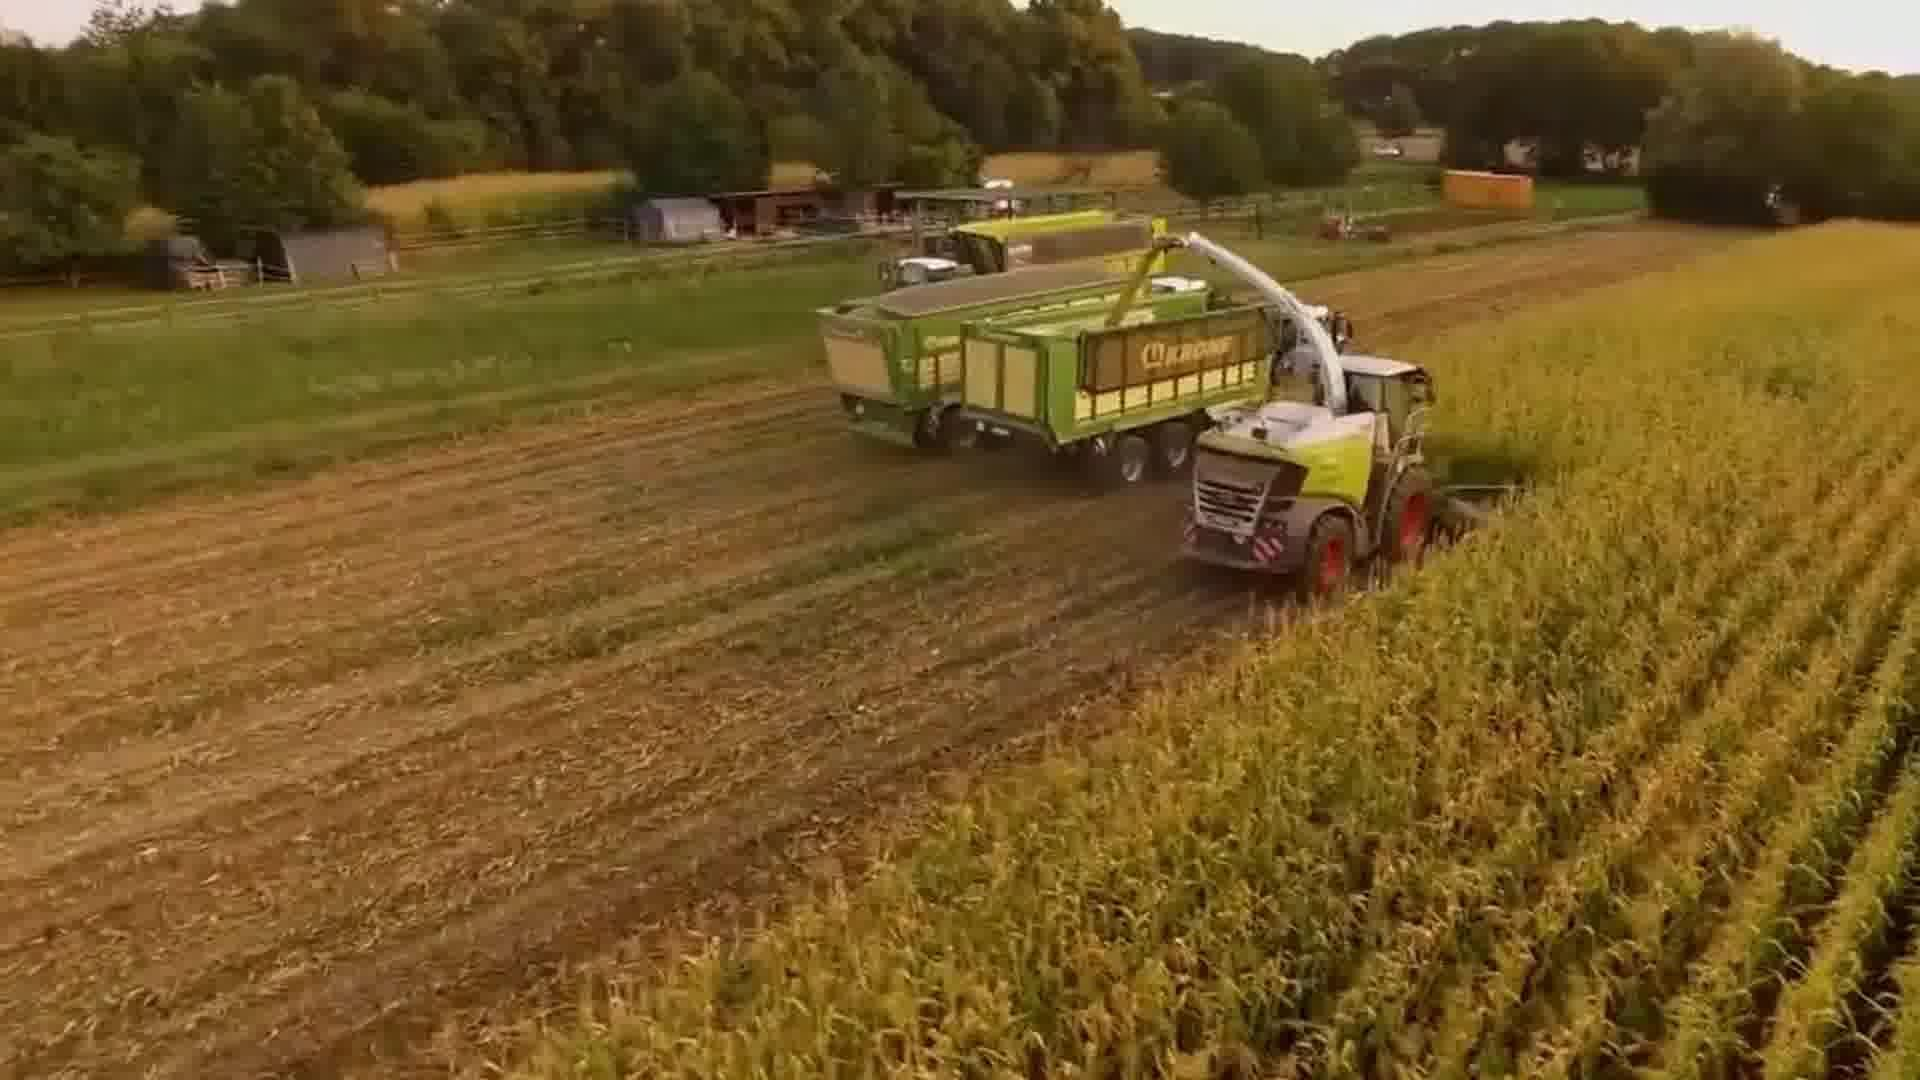combine harvester: (1151, 220, 1532, 599)
tractor: (1270, 286, 1346, 381), (880, 249, 963, 290)
trailer: (959, 285, 1283, 489), (811, 255, 1131, 455), (940, 207, 1182, 285)
